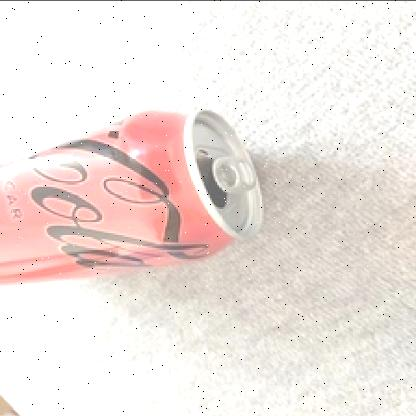Can: (0, 107, 263, 287)
